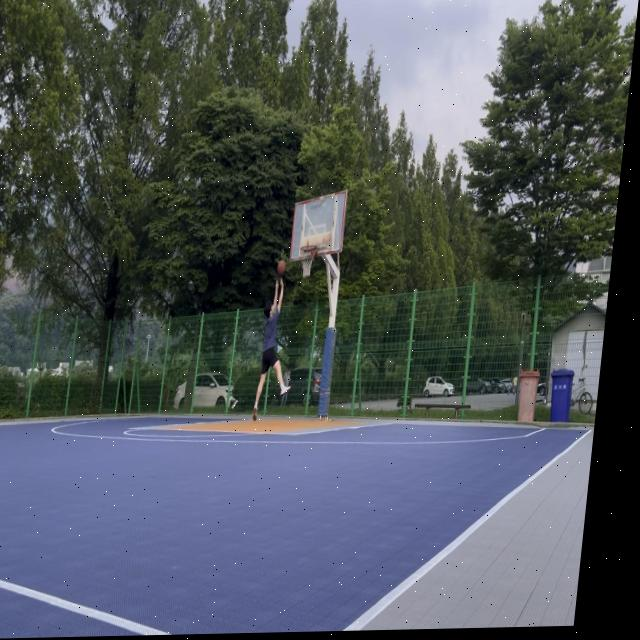basketball: (276, 259, 287, 275)
hoop: (297, 244, 317, 279)
